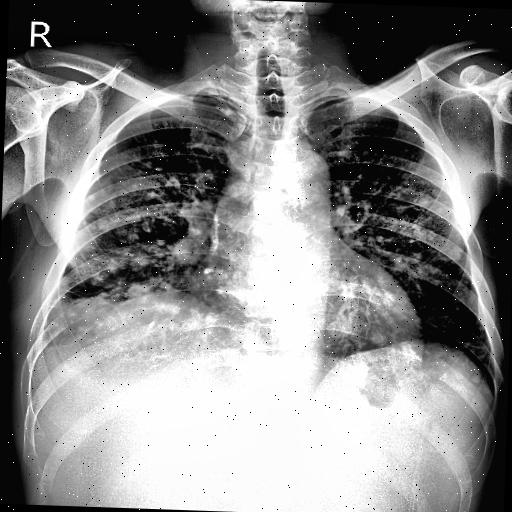0- Aortic enlargement: (224, 147, 330, 216)
10- Pleural effusion: (36, 290, 91, 354), (28, 321, 64, 365), (44, 292, 70, 332)
11- Pleural thickening: (28, 321, 64, 365), (44, 292, 70, 332)
4- Consolidation: (46, 292, 117, 342)
5- ILD: (76, 143, 202, 299), (371, 179, 469, 316)
7- Lung Opacity: (76, 143, 202, 299), (371, 179, 469, 316), (46, 292, 117, 342), (48, 296, 118, 336)
8- Nodule-Mass: (69, 147, 201, 306), (76, 143, 202, 299), (370, 168, 476, 282), (75, 222, 101, 250), (324, 319, 352, 337), (107, 254, 127, 274), (136, 292, 158, 310), (368, 331, 388, 348), (90, 269, 108, 287), (129, 256, 149, 272), (444, 246, 464, 262), (404, 248, 423, 264), (125, 282, 142, 298), (96, 306, 114, 320), (164, 303, 180, 316), (418, 196, 432, 208), (114, 226, 128, 237), (200, 198, 212, 210), (100, 175, 112, 187), (169, 226, 180, 236), (116, 188, 128, 196), (155, 237, 165, 246)
